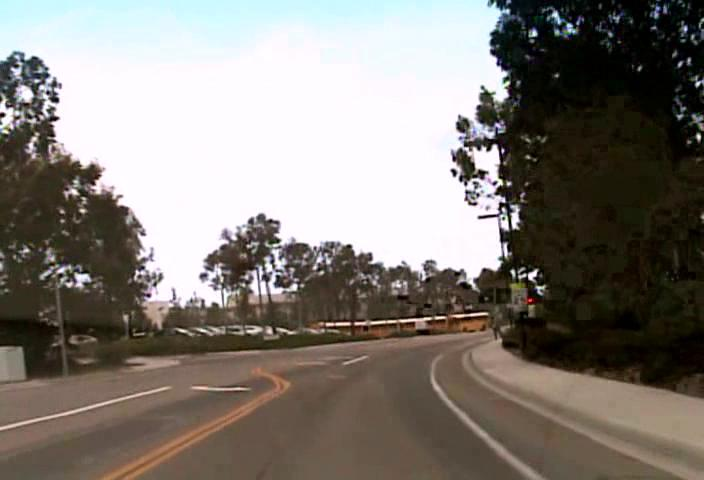schoolSpeedLimit25: (509, 282, 529, 314)
